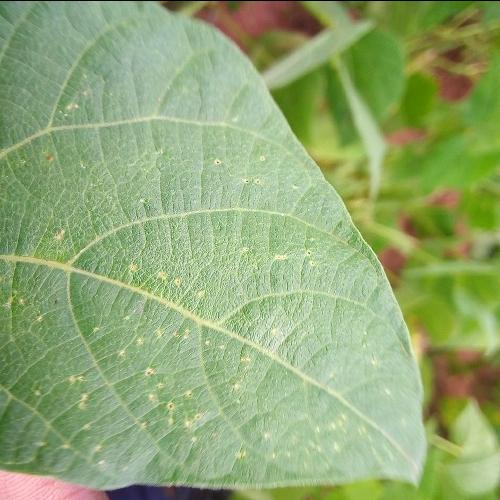hawar: (0, 60, 370, 472)
